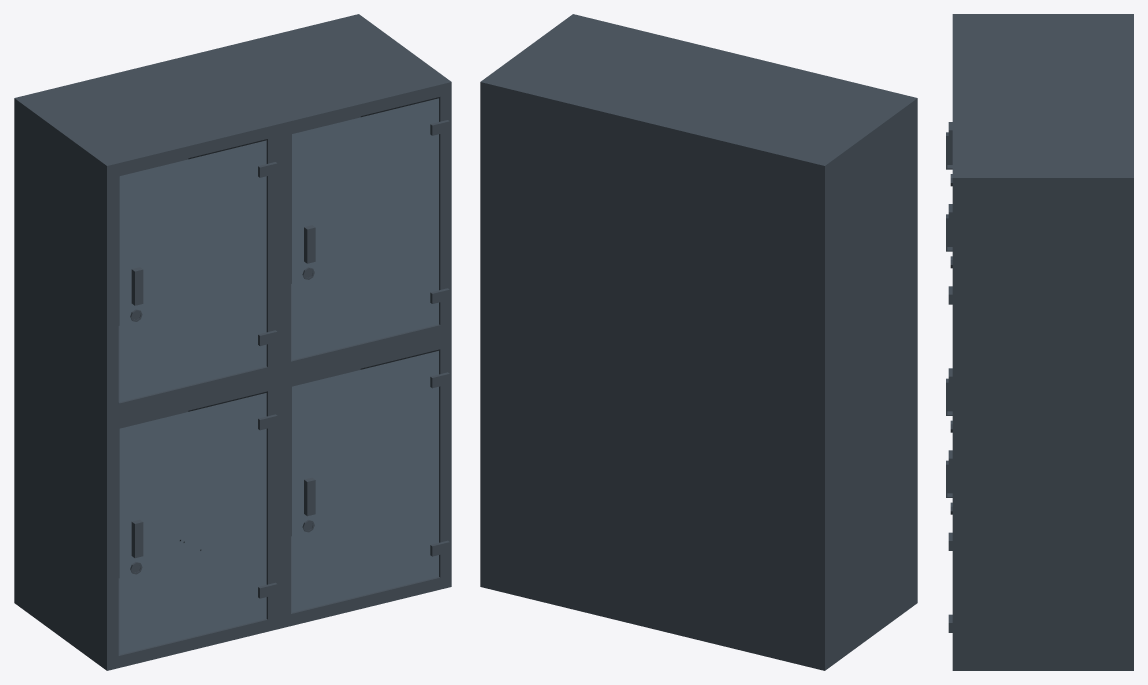
Rendered from Wardrobe.fbx.
3 views of the same model, side by side, from view 1: azimuth 30°, elevation 25°; view 2: azimuth 150°, elevation 25°; view 3: azimuth 270°, elevation 25° (orthographic). The views are drawn at different scales.
Parts seen in each view (by area): view 1: Wardrobe; view 2: Wardrobe; view 3: Wardrobe.
Part boxes in pixels (x1,y1,x2,y2): Wardrobe: (14,14,451,670); Wardrobe: (480,14,917,670); Wardrobe: (946,14,1133,670).
Size of the model in its own units: 300 by 420 by 145.
